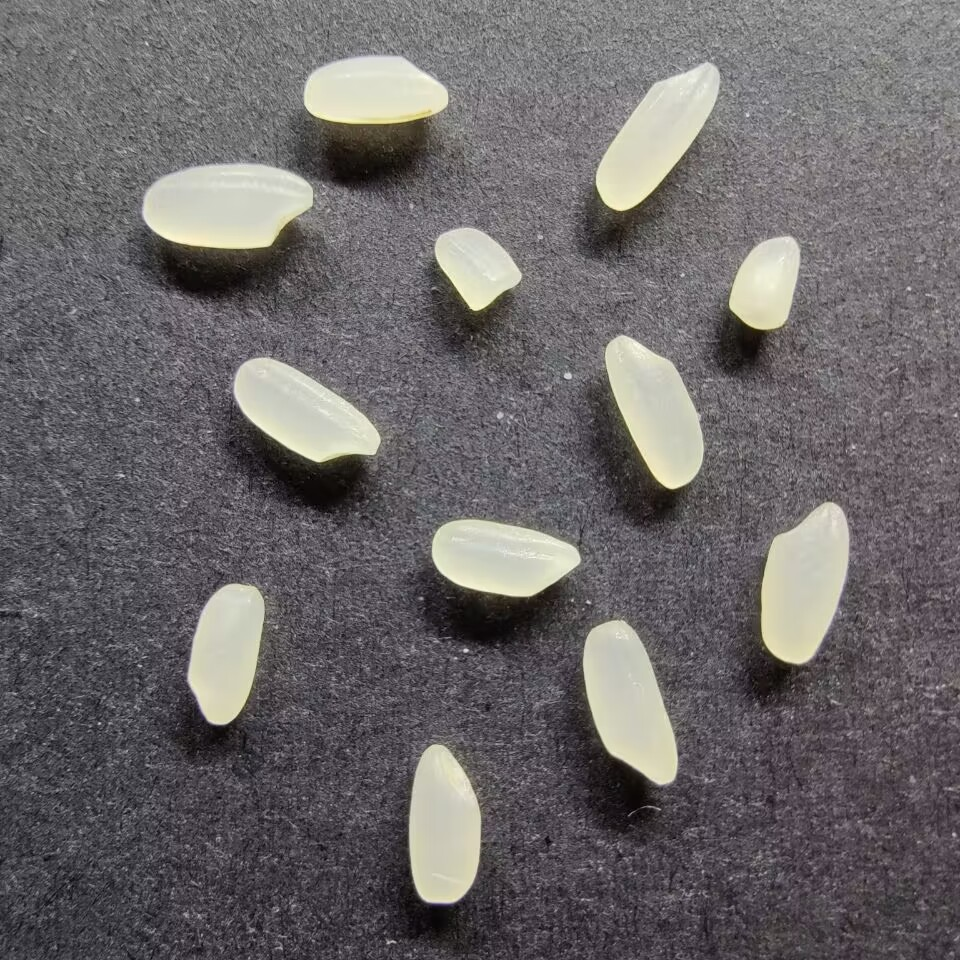broken: (432, 226, 522, 311), (726, 235, 800, 331)
rice: (594, 61, 721, 212), (581, 618, 680, 787), (604, 333, 706, 491), (231, 357, 381, 463), (140, 162, 315, 251), (758, 499, 850, 665), (407, 741, 483, 906), (431, 518, 582, 599), (187, 582, 266, 728), (301, 53, 450, 126)
